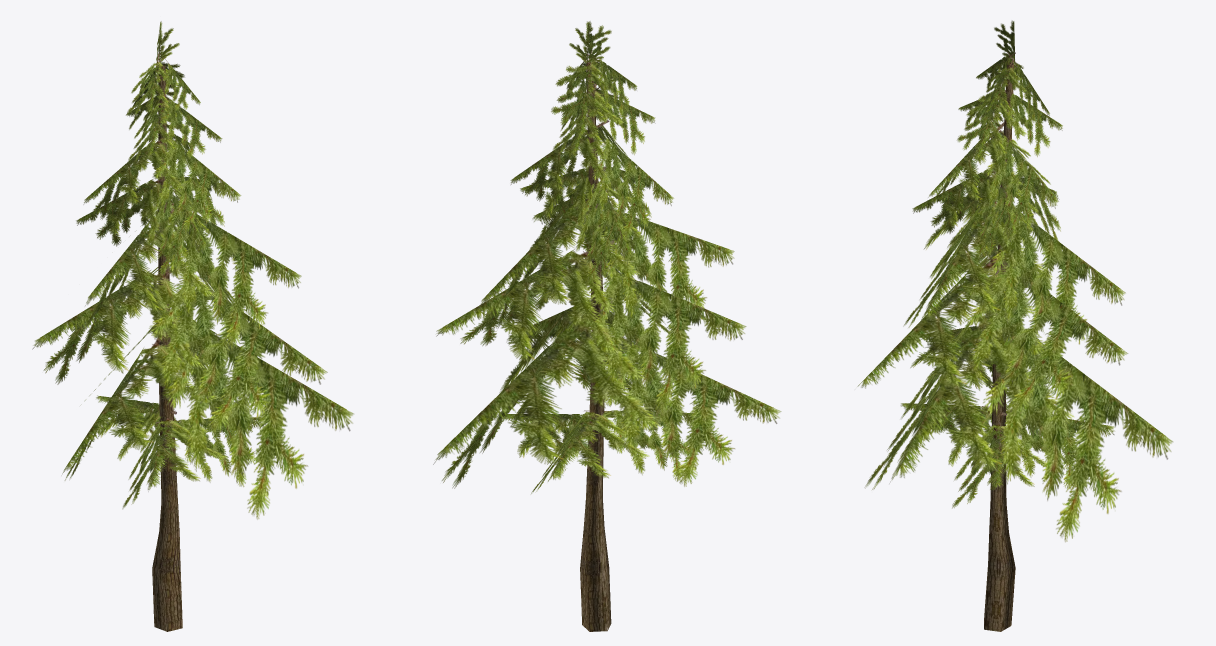
Rendered from tree01.glb.
3 renders of one model, left to right at view 1: azimuth 30°, elevation 25°; view 2: azimuth 150°, elevation 25°; view 3: azimuth 270°, elevation 25°, orthographic. The views are drawn at different scales.
Parts seen in each view (by area): view 1: Tree_Pine_T2; view 2: Tree_Pine_T2; view 3: Tree_Pine_T2.
Part boxes in pixels (x1,y1,x2,y2): Tree_Pine_T2: (32,21,353,631); Tree_Pine_T2: (433,21,781,631); Tree_Pine_T2: (857,20,1172,631).
Bounding box in the file's own units: 9.97 × 17.92 × 9.67.
Materials: 1 (1 with a texture image).
